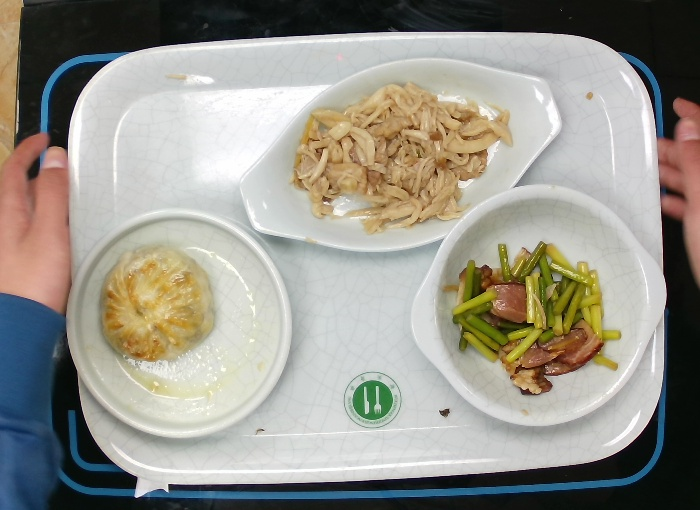JYsf-Shuang_Er_Wan: (406, 183, 686, 438)
JYsf-Xiao_Yuan_Pan: (67, 210, 297, 456)
JYsf-Yu_Pan: (240, 54, 567, 255)
